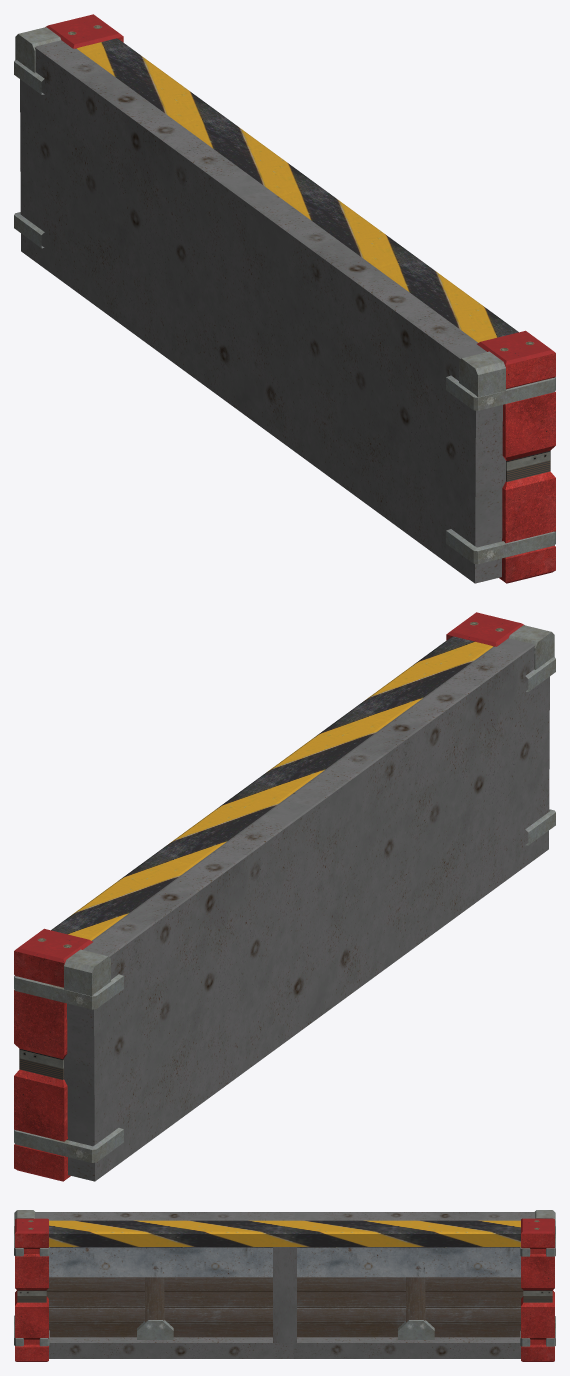
Rendered from Ob_PlatformGridEnd_RC.fbx.
3 renders of one model, top to bottom at view 1: azimuth 30°, elevation 25°; view 2: azimuth 150°, elevation 25°; view 3: azimuth 270°, elevation 25°, orthographic. The views are drawn at different scales.
Visible parts, largest first — view 1: Ob_PlatformGridEnd_RC; view 2: Ob_PlatformGridEnd_RC; view 3: Ob_PlatformGridEnd_RC.
Part boxes in pixels (x1=…): Ob_PlatformGridEnd_RC: x1=14, y1=14, x2=555, y2=583; Ob_PlatformGridEnd_RC: x1=14, y1=612, x2=555, y2=1181; Ob_PlatformGridEnd_RC: x1=14, y1=1210, x2=555, y2=1361.
Size of the model in its own units: 160 by 414 by 1558.
